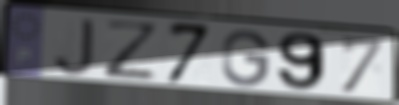7: (163, 20, 214, 87), (339, 34, 385, 97)
9: (276, 31, 332, 95)
G: (220, 28, 273, 89)
J: (52, 17, 96, 78)
Z: (102, 18, 163, 81)
